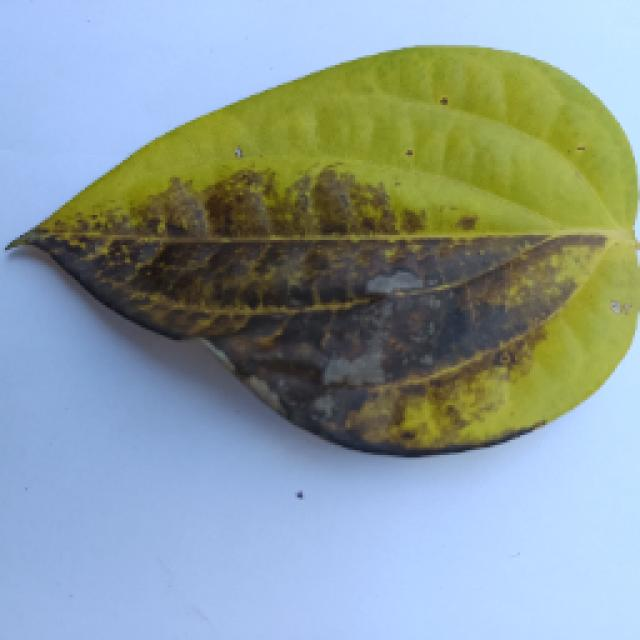slow-decline: (0, 35, 625, 523)
